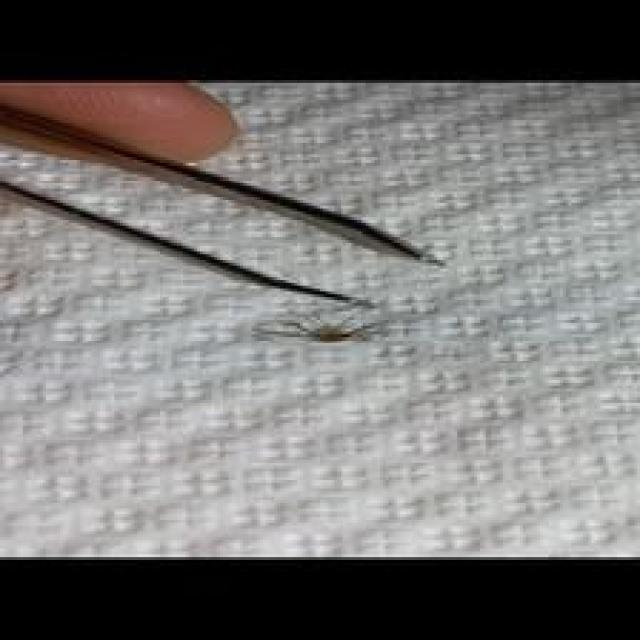Culex: (0, 72, 446, 314)
